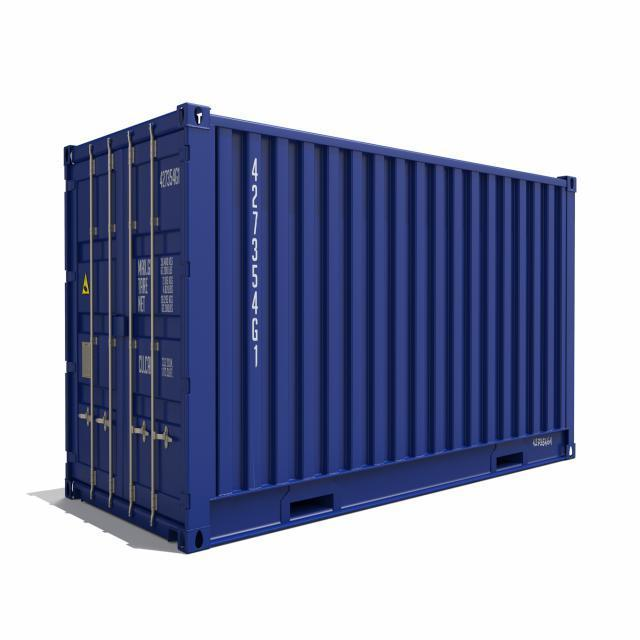container_number: (247, 156, 266, 361)
